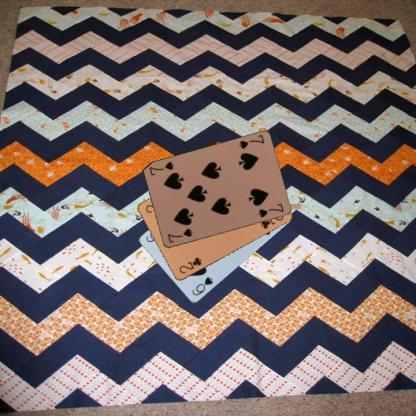2c: (176, 255, 203, 275)
6s: (189, 274, 214, 297)
7s: (236, 132, 266, 150), (165, 226, 194, 244)
